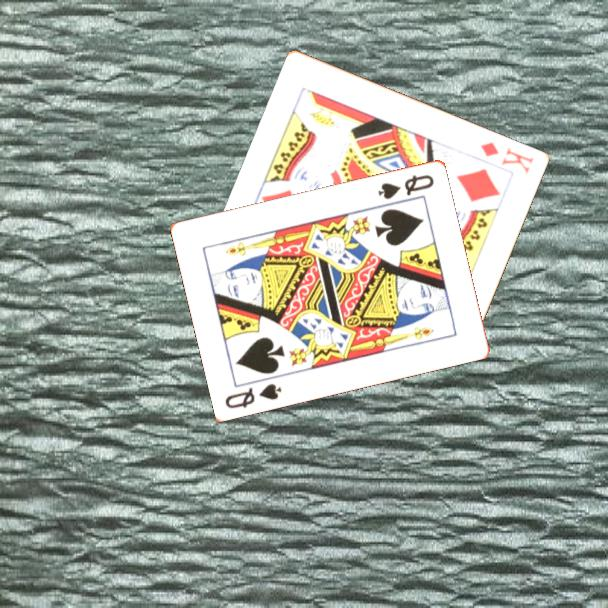d13: (477, 138, 537, 176)
s12: (222, 379, 285, 411), (375, 171, 437, 202)
